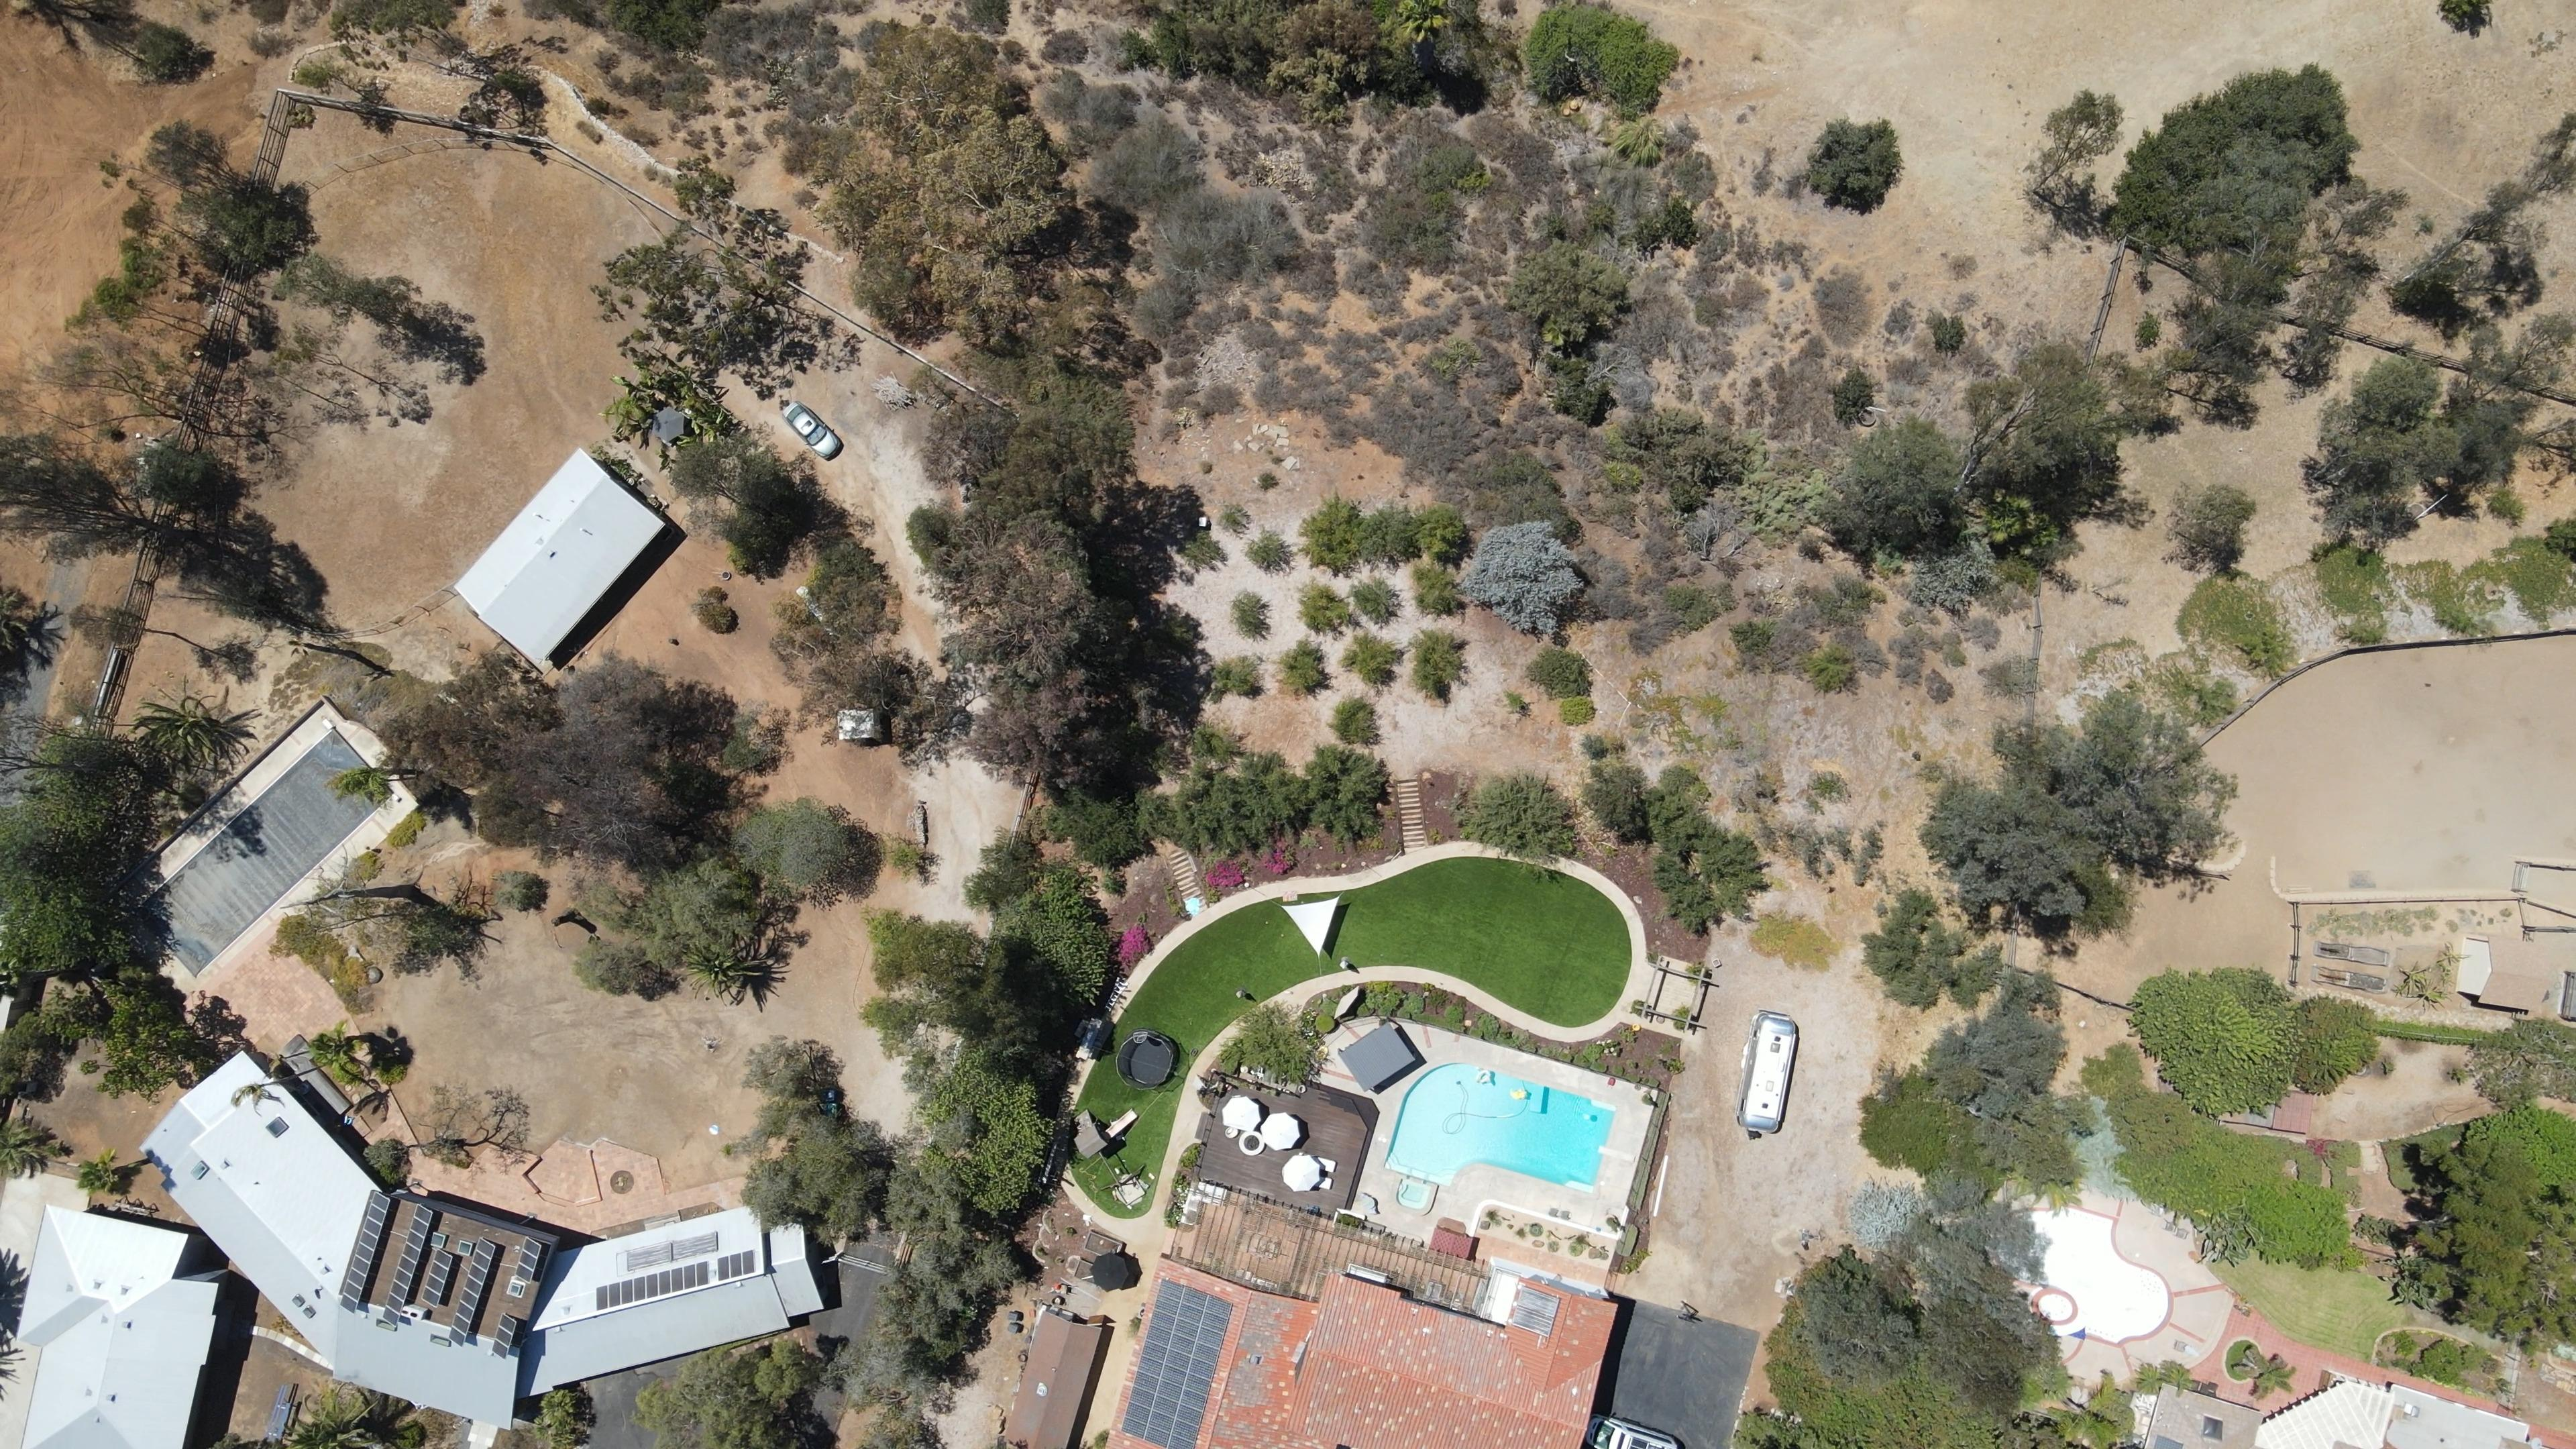panel: (1120, 1279, 1233, 1449), (338, 1192, 391, 1315), (382, 1203, 433, 1325), (596, 1260, 709, 1311), (448, 1238, 495, 1348), (421, 1249, 453, 1309), (490, 1313, 517, 1362), (717, 1249, 757, 1281), (515, 1237, 541, 1284)
